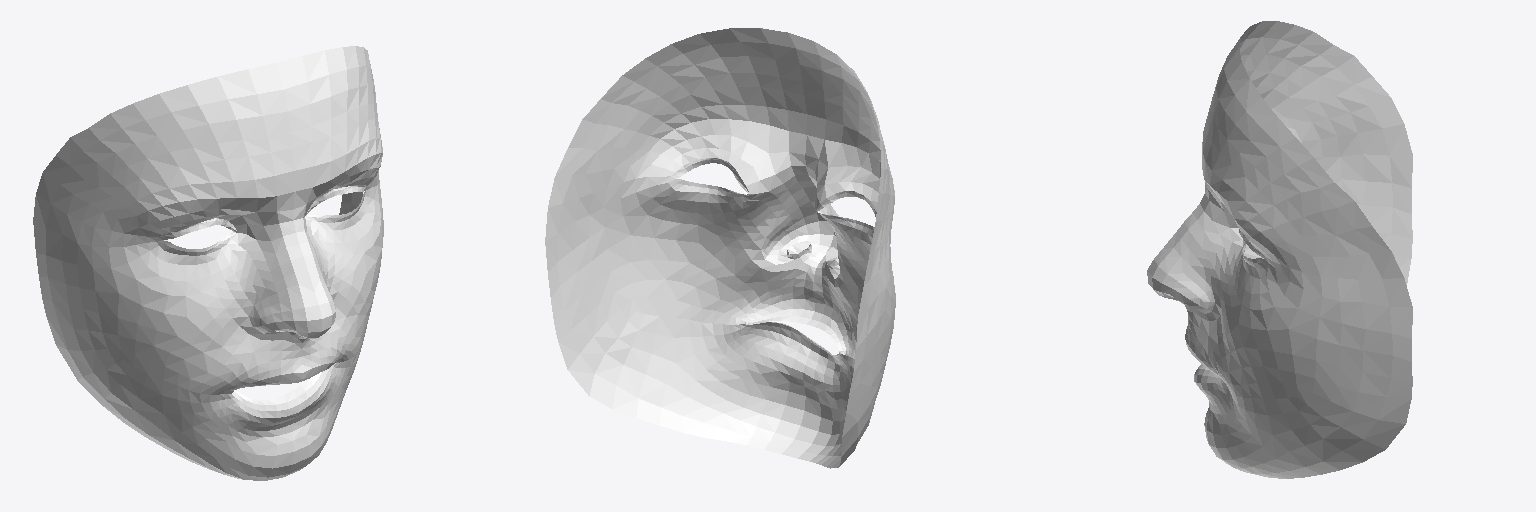
The model's file is mouthLowerDown_R.obj.
3 renders of one model, left to right at view 1: azimuth 30°, elevation 25°; view 2: azimuth 150°, elevation 25°; view 3: azimuth 270°, elevation 25°, orthographic.
Visible parts, largest first — view 1: default; view 2: default; view 3: default.
Boxes of the visible parts, <box> form: default: <box>33,46,383,480</box>; default: <box>545,28,895,468</box>; default: <box>1147,21,1412,478</box>.
Bounding box in the file's own units: 0.1447 × 0.1824 × 0.1055.